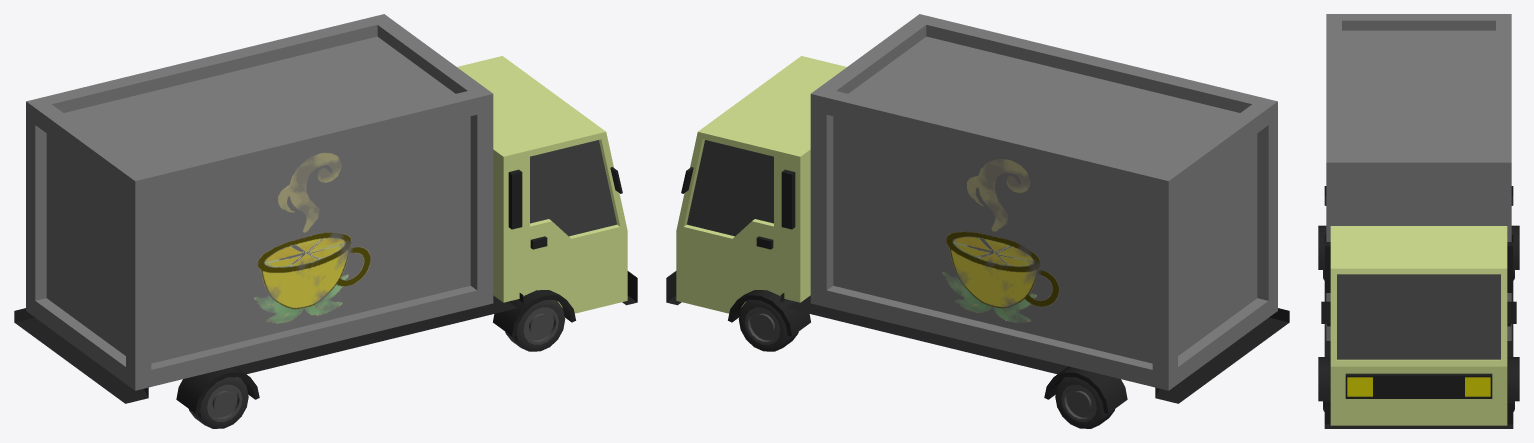
The model's file is Truck.gltf.
3 views of the same model, side by side, from view 1: azimuth 30°, elevation 25°; view 2: azimuth 150°, elevation 25°; view 3: azimuth 270°, elevation 25° (orthographic). The views are drawn at different scales.
Parts seen in each view (by area): view 1: Cube, TruckHead, Cylinder, Plane; view 2: Cube, TruckHead, Cylinder, Plane; view 3: Cube, TruckHead, Cylinder, Plane.
Boxes of the visible parts, x1,y1,x2,y2 form: Cube: [26, 14, 493, 390]; TruckHead: [457, 56, 637, 313]; Cylinder: [176, 290, 575, 428]; Plane: [14, 293, 523, 403]; Cube: [810, 14, 1277, 390]; TruckHead: [666, 56, 846, 313]; Cylinder: [728, 290, 1127, 428]; Plane: [780, 293, 1289, 403]; Cube: [1326, 14, 1511, 340]; TruckHead: [1321, 226, 1516, 428]; Cylinder: [1318, 225, 1519, 411]; Plane: [1324, 186, 1513, 356].
Bounding box in the file's own units: 10.22 × 5.13 × 4.1.
Materials: 8 (1 with a texture image).
